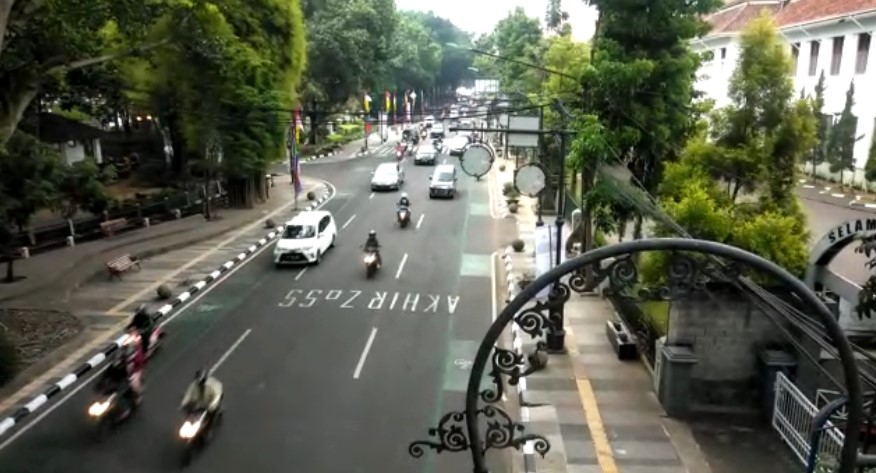mobil: (273, 208, 340, 271), (369, 160, 405, 192), (428, 163, 457, 202)
motor: (83, 354, 155, 440), (172, 369, 230, 459), (362, 231, 388, 282), (396, 193, 416, 228)
